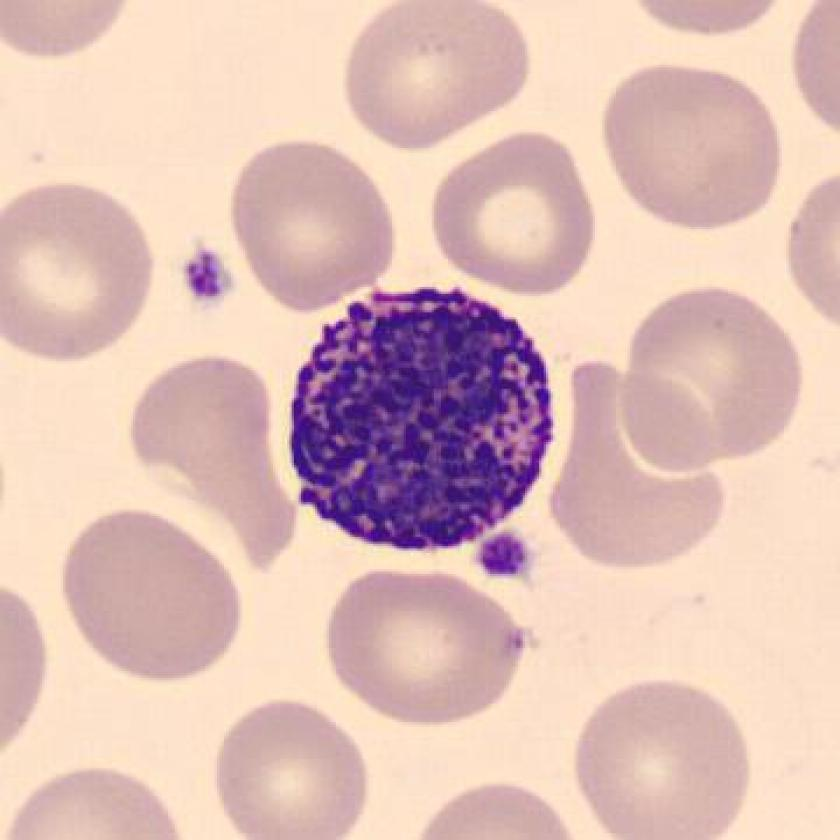basophil: (284, 286, 564, 561)
